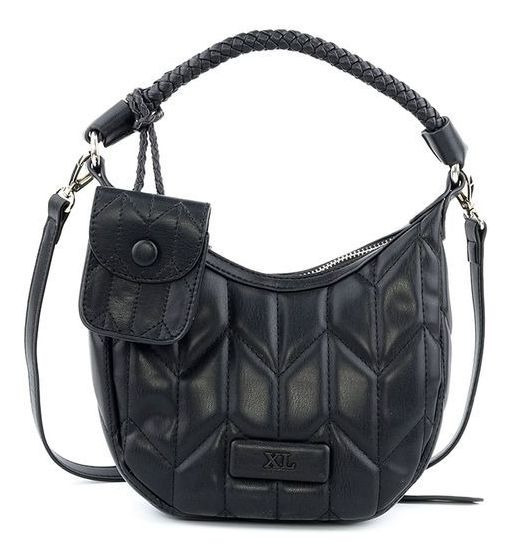cartera: (21, 27, 486, 527)
